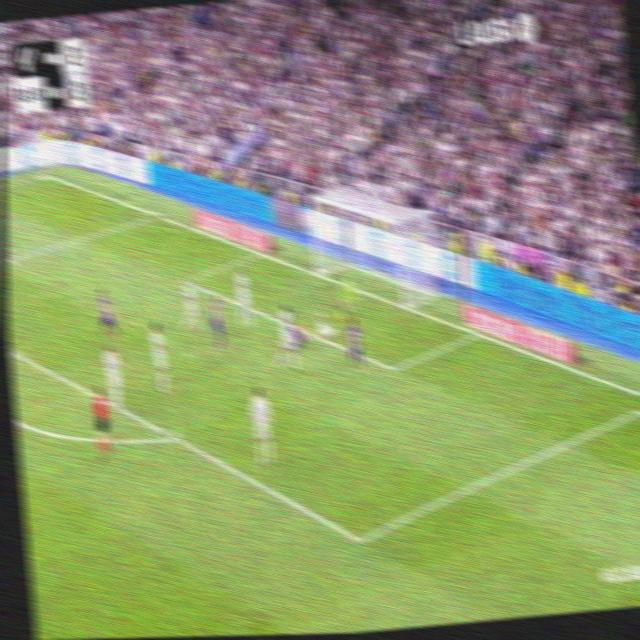bigarea_bottom_inner: (347, 519, 370, 558)
bigarea_top_outter: (148, 203, 162, 222)
bottom_arc_area_intersection: (162, 422, 182, 449)
corner: (37, 166, 54, 182)
smallarea_top_inner: (176, 270, 189, 287)
top_arc_area_intersection: (6, 339, 21, 362)
